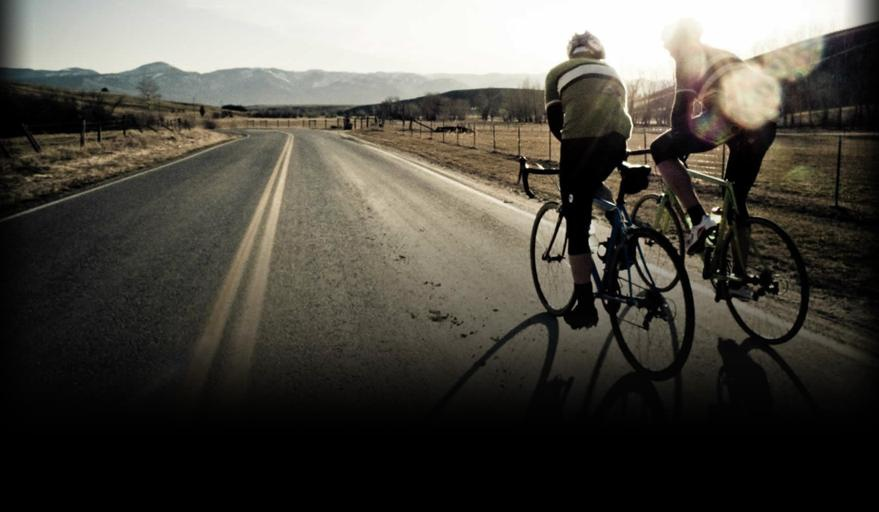non-vehicle: (514, 153, 696, 383), (629, 148, 809, 345)
